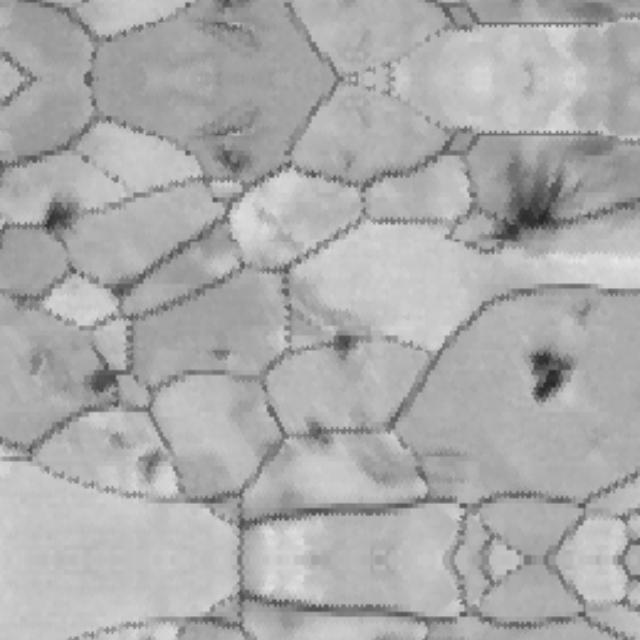good_void: (488, 156, 588, 259), (191, 108, 258, 180), (191, 0, 258, 50), (524, 347, 575, 405), (35, 205, 83, 240), (328, 328, 370, 366), (24, 341, 61, 384), (202, 336, 245, 369), (75, 369, 124, 396), (134, 449, 170, 485), (303, 419, 336, 456), (338, 147, 369, 179), (569, 296, 597, 330), (110, 431, 140, 454), (342, 0, 365, 11)
